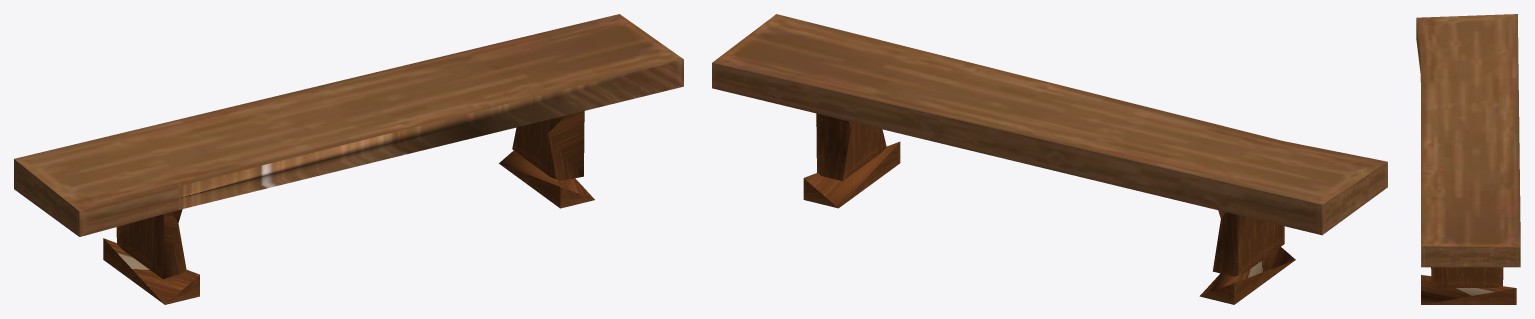
File: Bench.medium.gltf
3 renders of one model, left to right at view 1: azimuth 30°, elevation 25°; view 2: azimuth 150°, elevation 25°; view 3: azimuth 270°, elevation 25°, orthographic. The views are drawn at different scales.
Parts seen in each view (by area): view 1: Bench; view 2: Bench; view 3: Bench.
Boxes of the visible parts, left/top/right/bottom form: Bench: left=14, top=14, right=683, bottom=304; Bench: left=712, top=14, right=1387, bottom=304; Bench: left=1416, top=14, right=1520, bottom=304.
Bounding box in the file's own units: 2.78 × 0.5332 × 0.5342.
2 materials, 2 textured.
